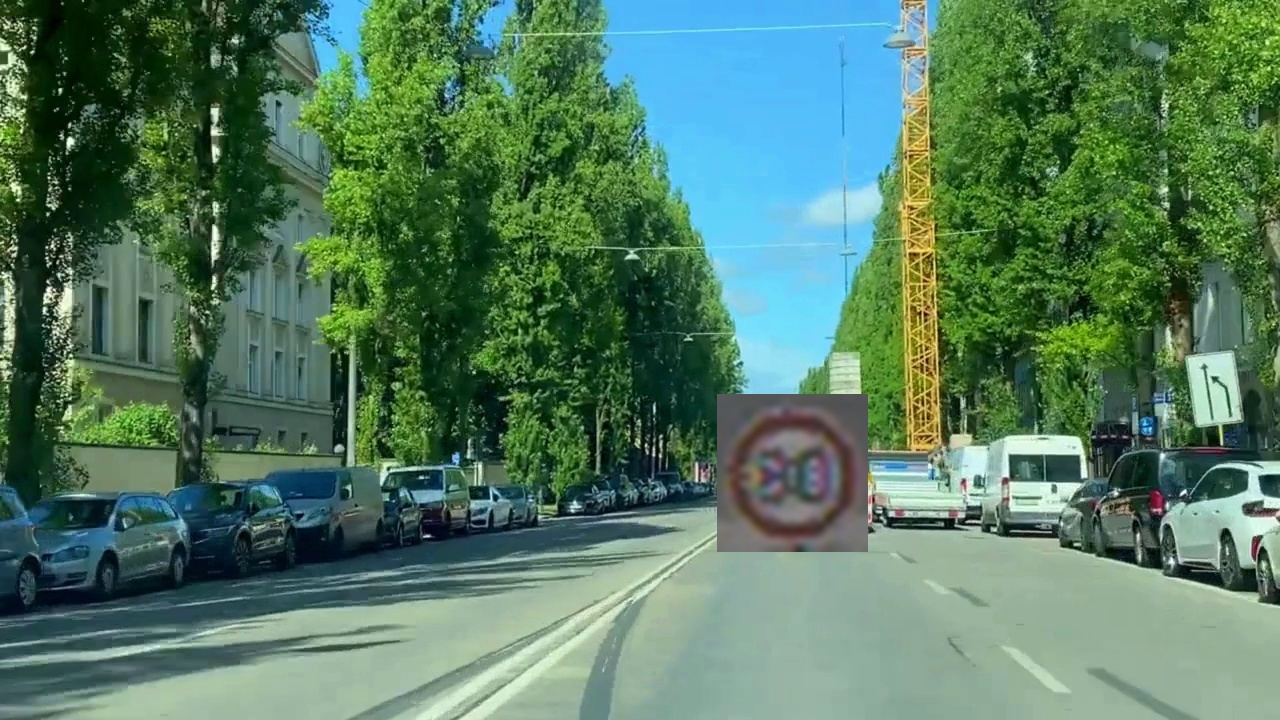Speed 80: (717, 394, 868, 552)
